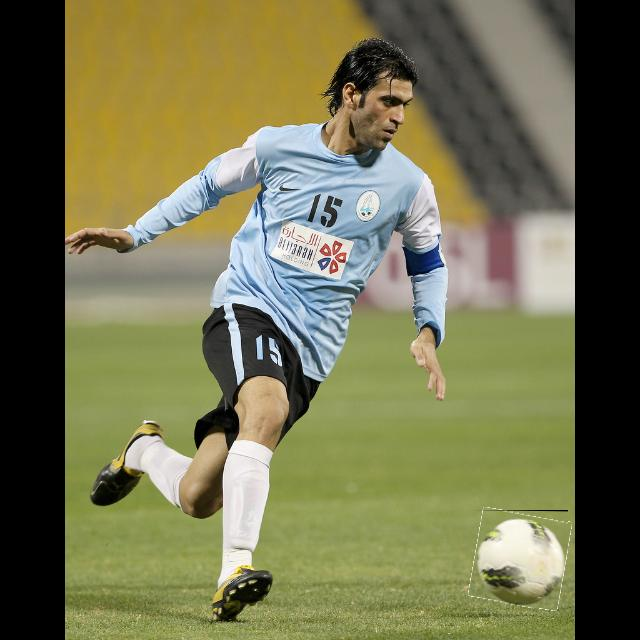Football: (472, 510, 568, 608)
